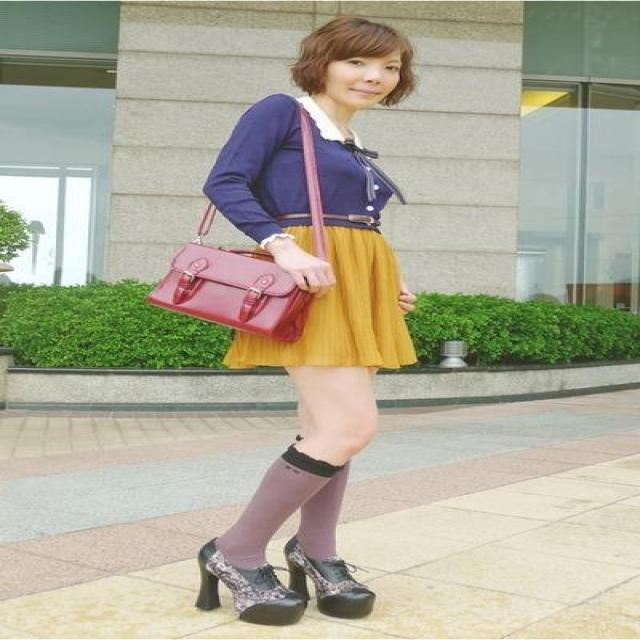bag: (141, 166, 331, 344)
shirt: (203, 90, 402, 242)
shoe: (196, 537, 374, 625)
skirt: (222, 218, 420, 370)
